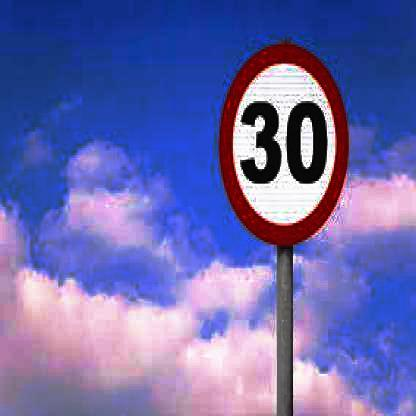Speed Limit -30-: (218, 40, 352, 248)
